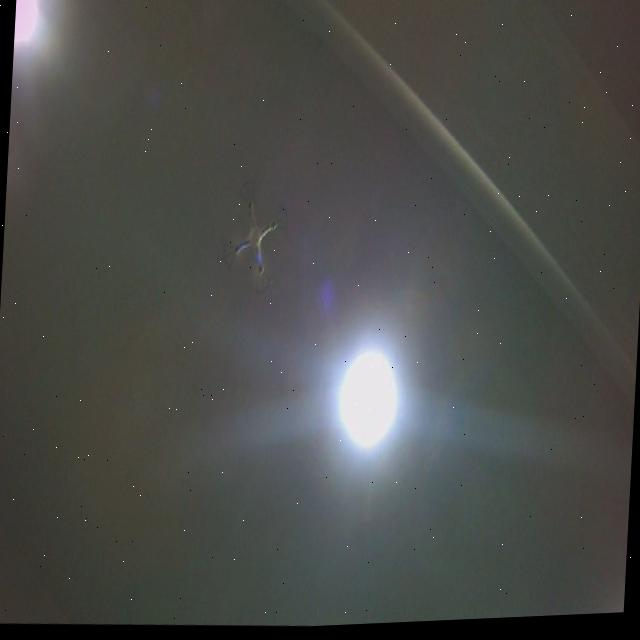drone: (217, 174, 295, 302)
